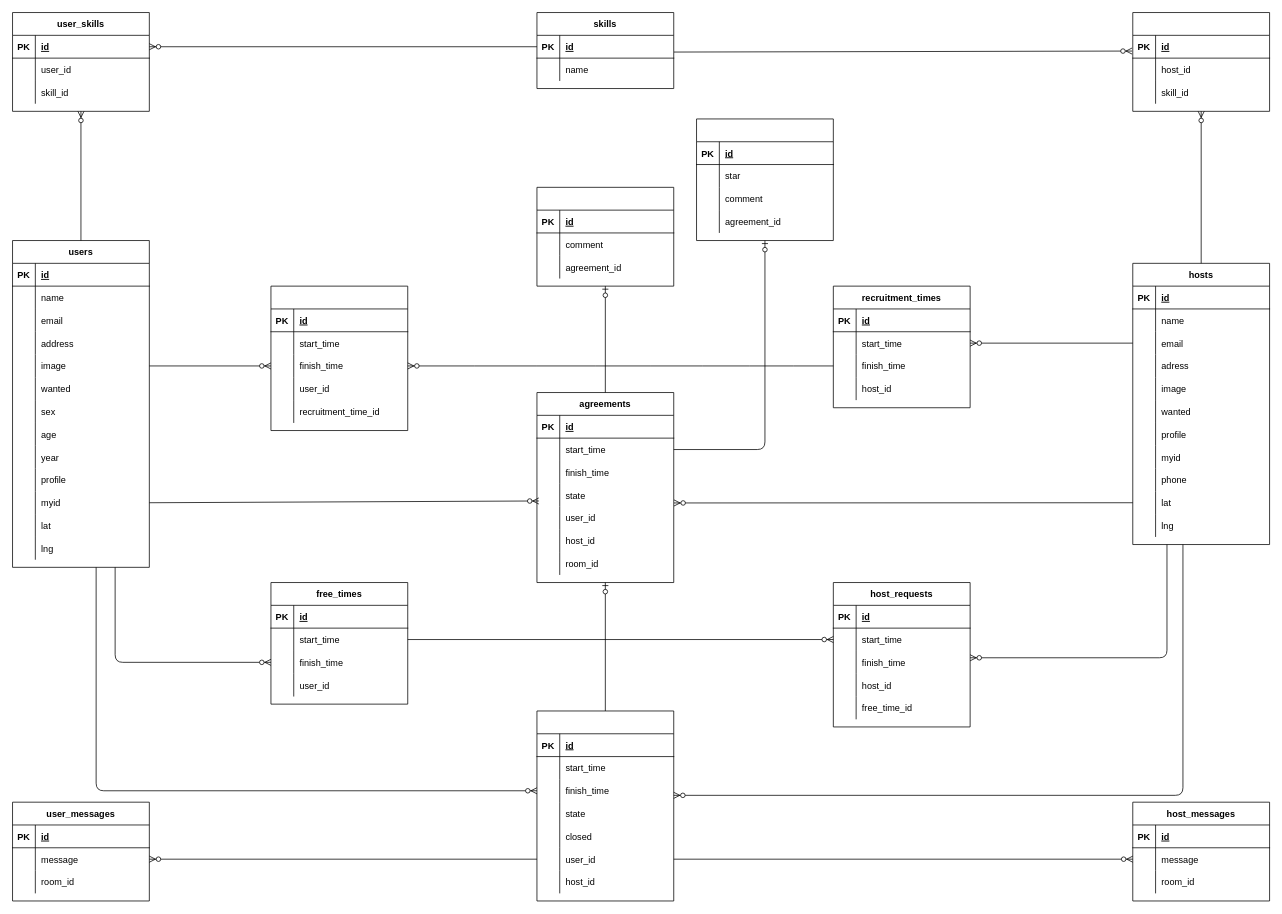
Image size: 1282x914. Some labels were removed from this diagram. Here are the shapes that lost their labels. From the top down, the box of each, then its label:
(1132, 12, 1270, 111): host_skills
(696, 118, 833, 241): rates
(536, 187, 674, 286): cancell_comments
(270, 285, 408, 431): user_requests
(536, 710, 674, 901): rooms
